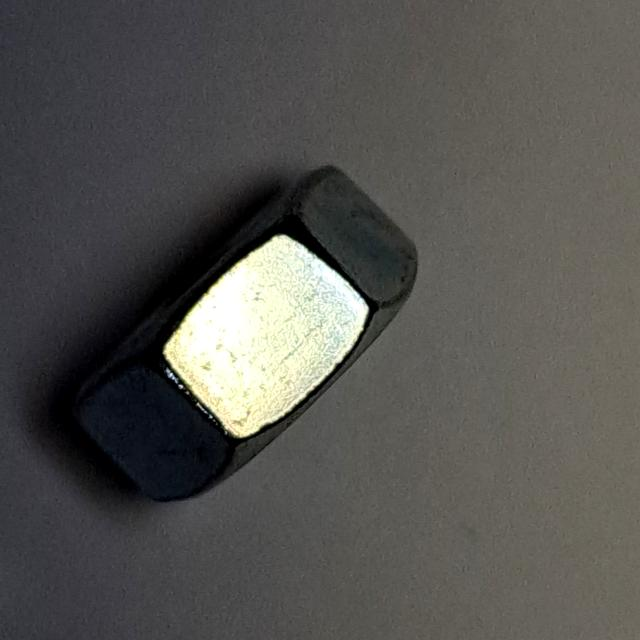Side_Excellent: (49, 154, 440, 530)
